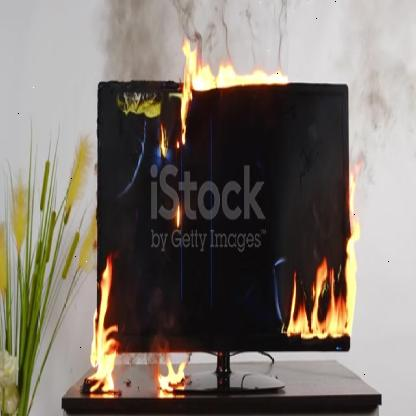fire: (282, 167, 361, 347), (175, 40, 293, 146), (87, 255, 122, 398), (157, 354, 196, 400)
smoke: (103, 0, 304, 86)
